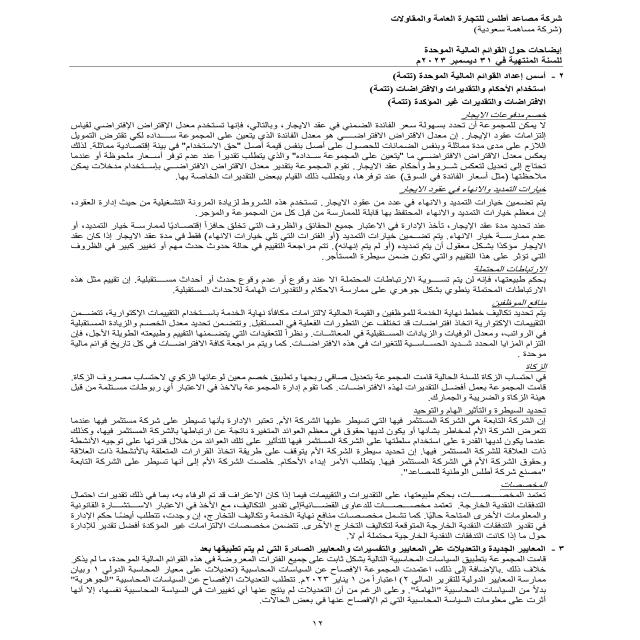notes: (416, 45, 569, 56)
text: (41, 70, 565, 605)
